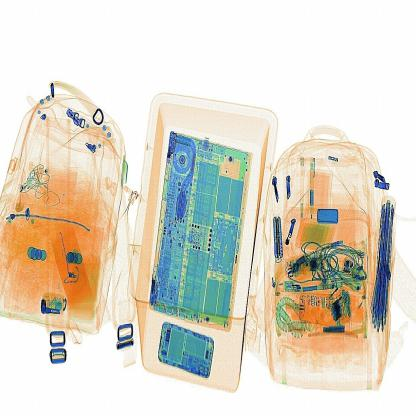scissors: (271, 215, 285, 265)
